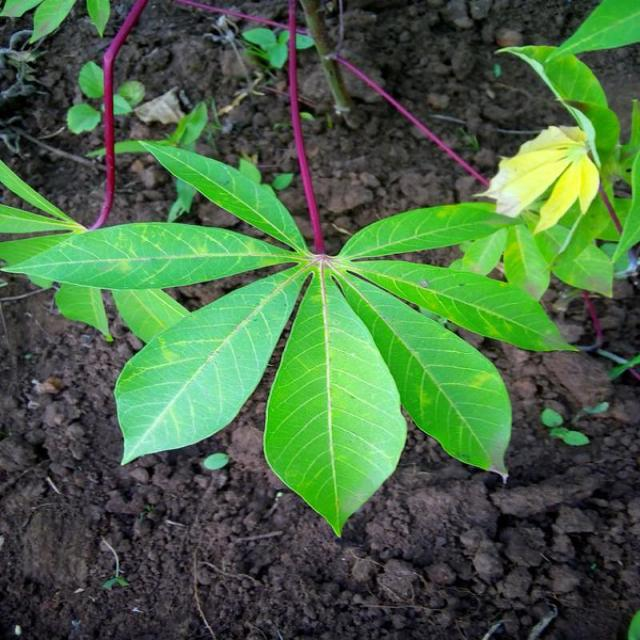cassava leaf: (262, 261, 409, 539), (114, 260, 312, 466), (334, 264, 514, 482)
